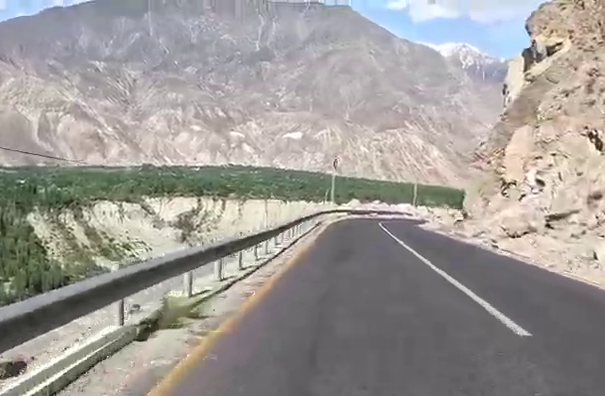stright: (319, 199, 531, 325)
